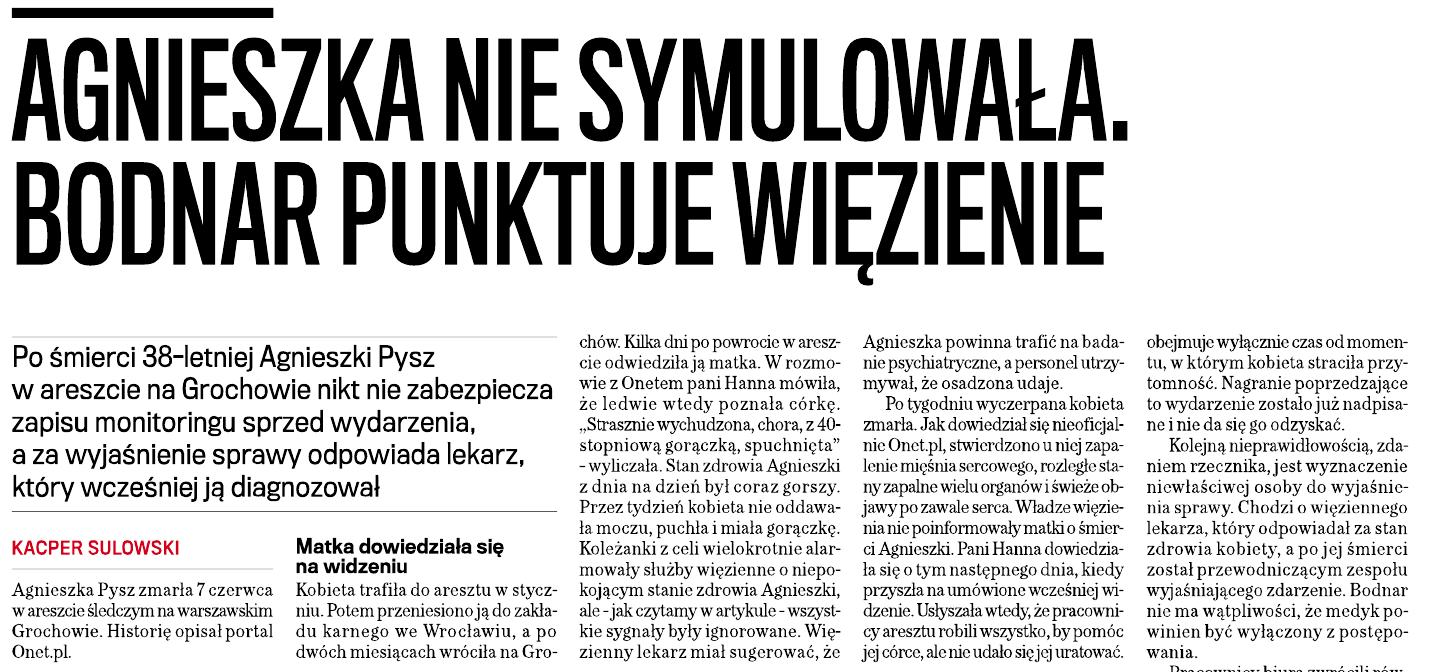author: (3, 532, 205, 564)
body: (855, 325, 1128, 670), (1140, 325, 1414, 664), (575, 326, 848, 666), (289, 532, 569, 670), (5, 573, 282, 666)
lead: (6, 336, 559, 507)
title: (7, 23, 1158, 295)
